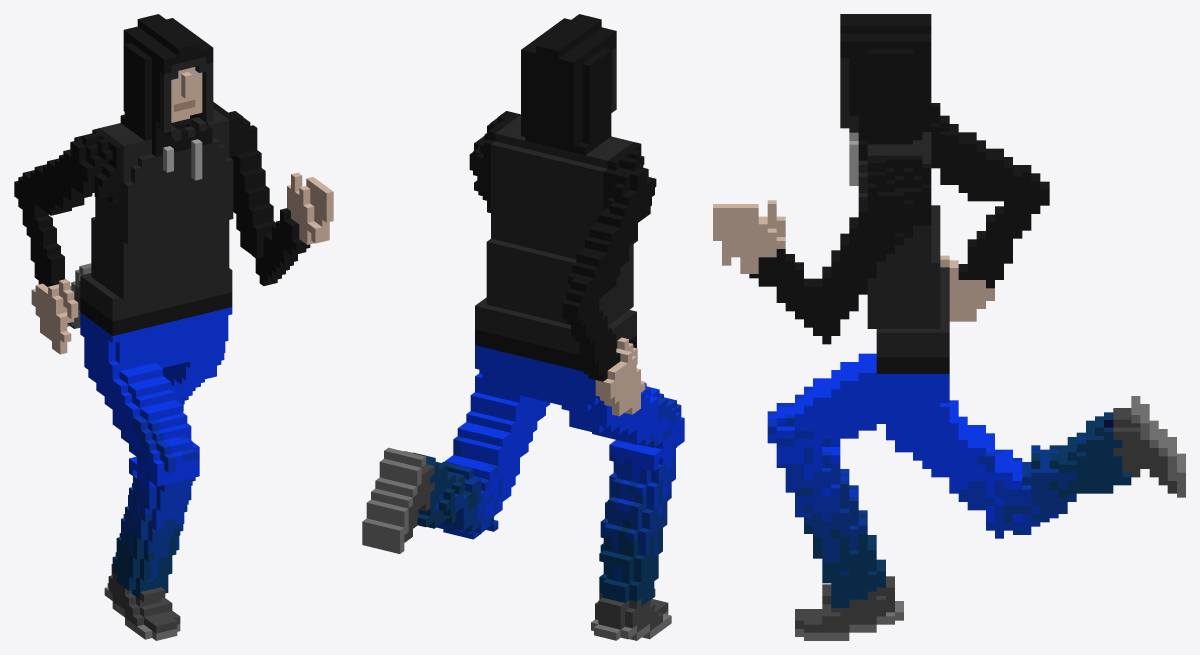
Rendered from pCharAn-1.obj.
3 views of the same model, side by side, from view 1: azimuth 30°, elevation 25°; view 2: azimuth 150°, elevation 25°; view 3: azimuth 270°, elevation 25° (orthographic). The views are drawn at different scales.
Bounding box in the file's own units: 2.5 × 7.7 × 5.2.
Materials: 1 (1 with a texture image).
